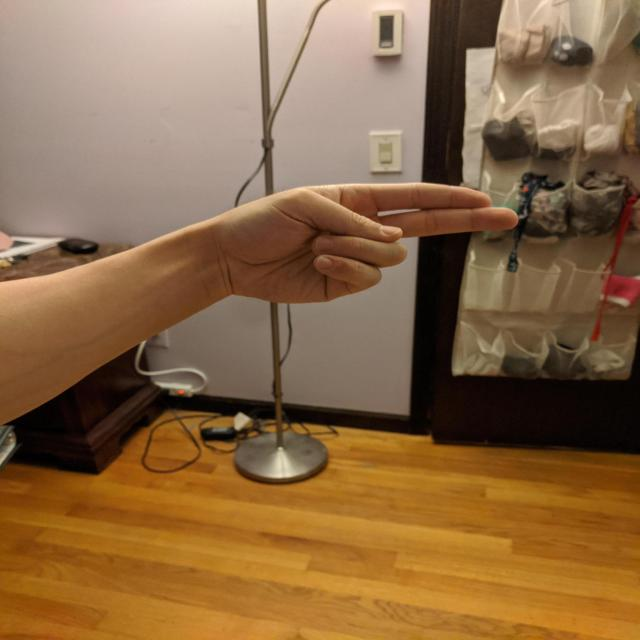H: (205, 180, 524, 314)
